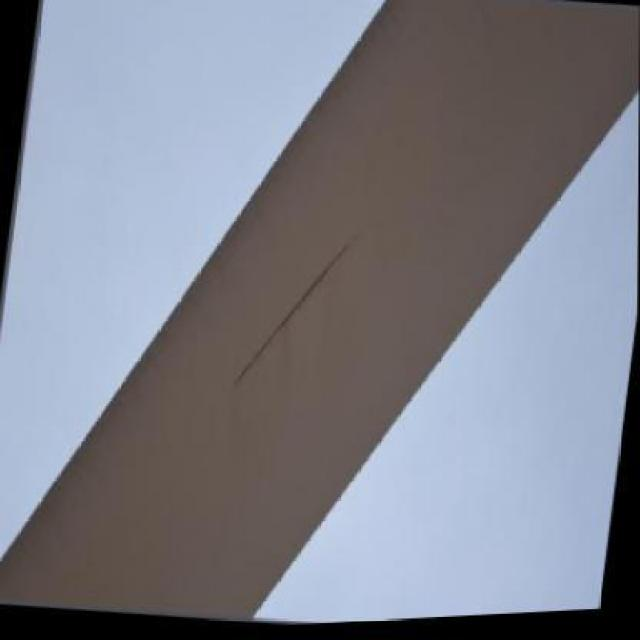Crack: (229, 224, 354, 401)
